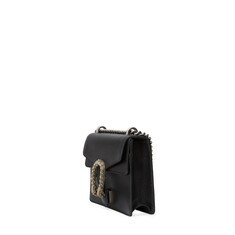Gucci: (85, 127, 156, 216), (88, 152, 109, 198)
